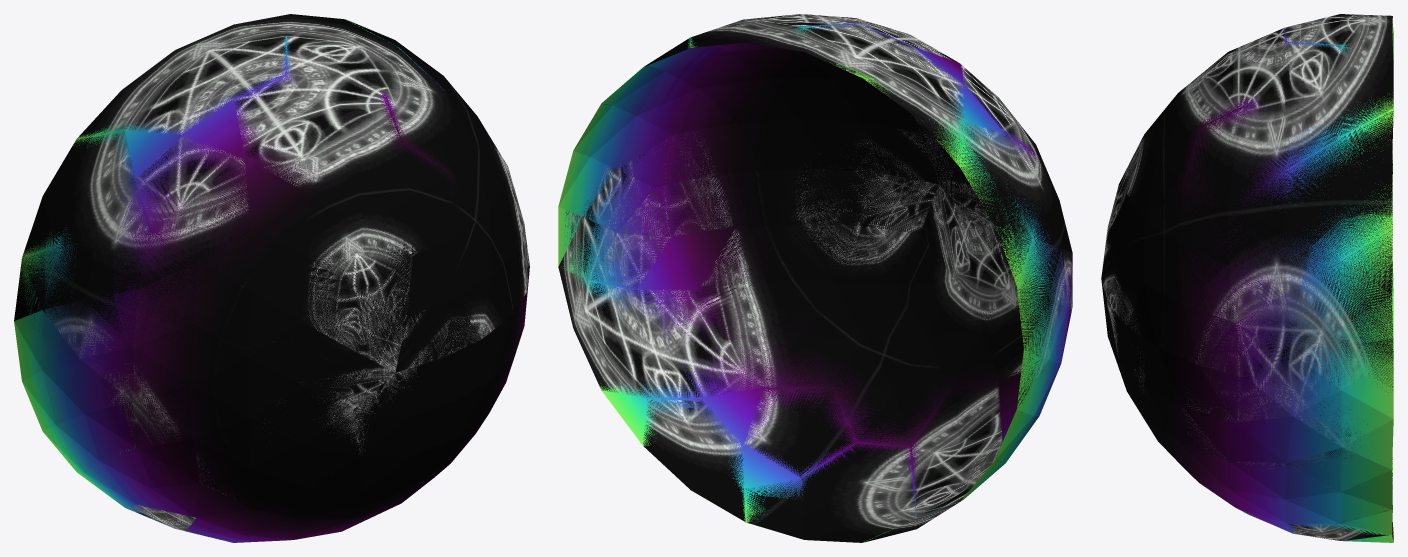
Rendered from lostatlantis_mofa_02.obj.
The picture shows the model from 3 angles, left to right: view 1: azimuth 30°, elevation 25°; view 2: azimuth 150°, elevation 25°; view 3: azimuth 270°, elevation 25°; orthographic projection.
Parts seen in each view (by area): view 1: xiangshang, jinhuangUV; view 2: jinhuangUV, xiangshang; view 3: jinhuangUV, xiangshang.
Part boxes in pixels (<box>): xiangshang: <box>14,19,529,542</box>; jinhuangUV: <box>14,14,529,541</box>; jinhuangUV: <box>558,14,1072,542</box>; xiangshang: <box>558,23,1072,542</box>; jinhuangUV: <box>1101,14,1393,541</box>; xiangshang: <box>1101,24,1393,542</box>.
Size of the model in its own units: 1031 by 1030 by 570.
Materials: 4 (4 with a texture image).
